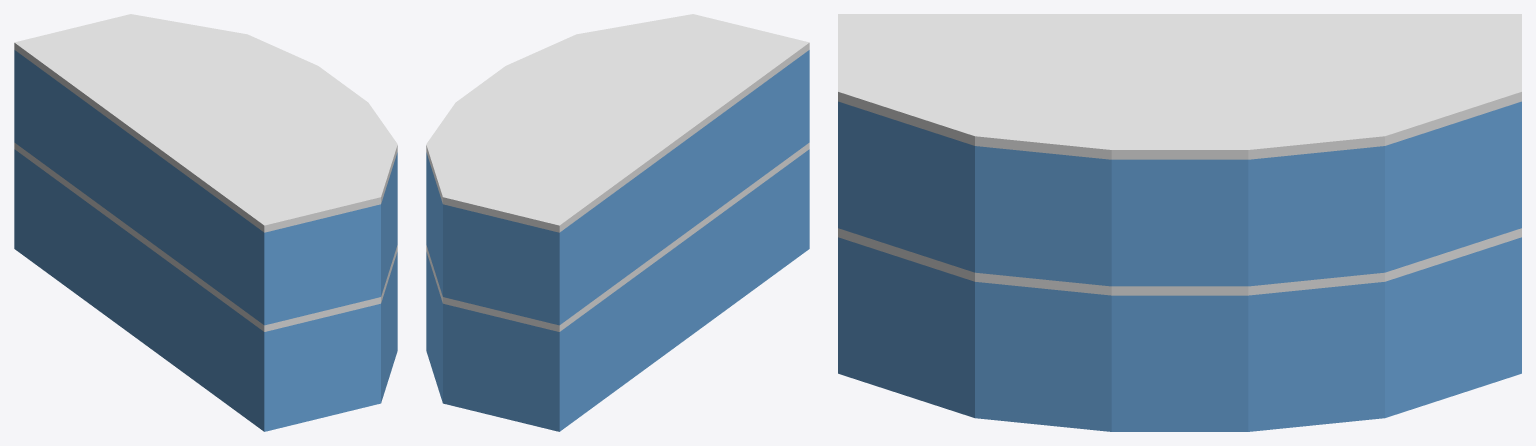
The model's file is building_1x2_9_f.glb.
3 renders of one model, left to right at view 1: azimuth 30°, elevation 25°; view 2: azimuth 150°, elevation 25°; view 3: azimuth 270°, elevation 25°, orthographic. The views are drawn at different scales.
Visible parts, largest first — view 1: Cube.001; view 2: Cube.001; view 3: Cube.001.
Part boxes in pixels (x1,y1,x2,y2): Cube.001: (14, 14, 397, 431); Cube.001: (426, 14, 809, 431); Cube.001: (838, 14, 1521, 431).
Size of the model in its own units: 1.66 by 1.6 by 3.52.
